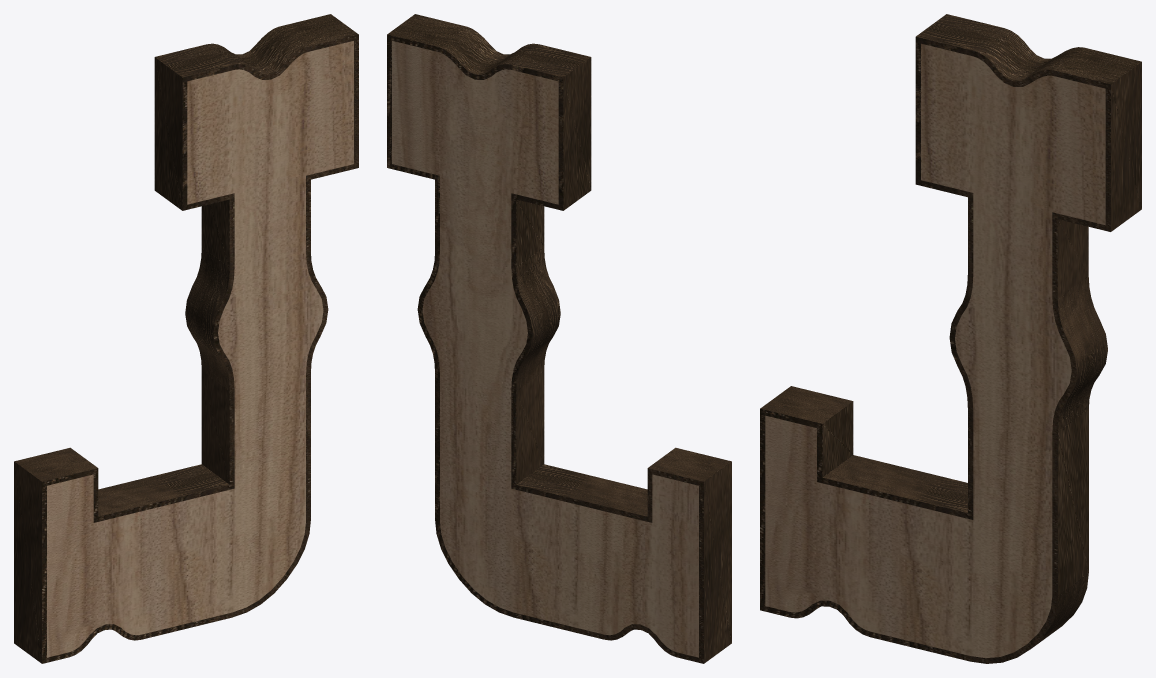
The picture shows the model from 3 angles, left to right: view 1: azimuth 30°, elevation 25°; view 2: azimuth 150°, elevation 25°; view 3: azimuth 330°, elevation 25°; orthographic projection. The views are drawn at different scales.
Parts seen in each view (by area): view 1: J, J_outline; view 2: J, J_outline; view 3: J, J_outline.
Part boxes in pixels (left/top/right/bottom): J: left=47, top=41, right=353, bottom=657; J_outline: left=14, top=14, right=358, bottom=663; J: left=392, top=41, right=698, bottom=657; J_outline: left=387, top=14, right=731, bottom=663; J: left=765, top=43, right=1105, bottom=658; J_outline: left=760, top=14, right=1141, bottom=663.
Size of the model in its own units: 65.3 by 109 by 10.
2 materials, 2 textured.
